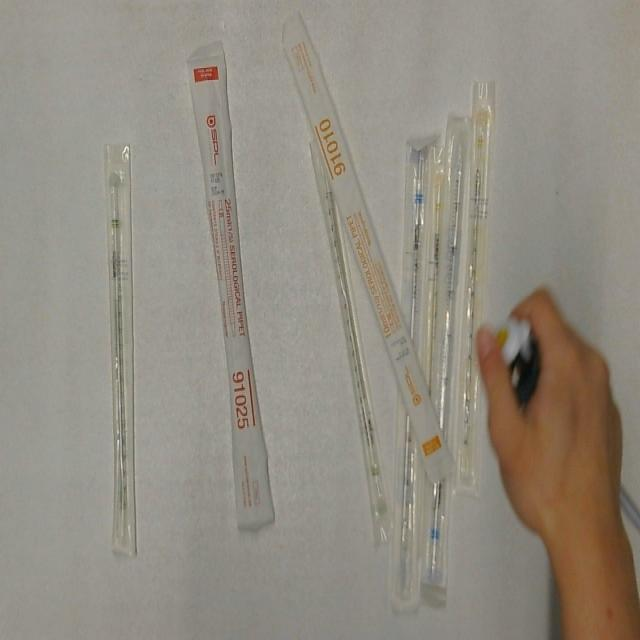Pipette Controller: (183, 39, 277, 534)
Serelogical Pipet 1 mL - Sealed: (456, 82, 499, 495), (416, 145, 446, 404)
Serelogical Pipet 10 mL - Sealed: (280, 13, 458, 486)
Serelogical Pipet 2 mL - Sealed: (307, 137, 399, 545), (100, 140, 141, 560)
Serelogical Pipet 5 mL - Sealed: (424, 117, 477, 597), (392, 134, 434, 616)
Single Channel Pipettor: (497, 316, 640, 532)
